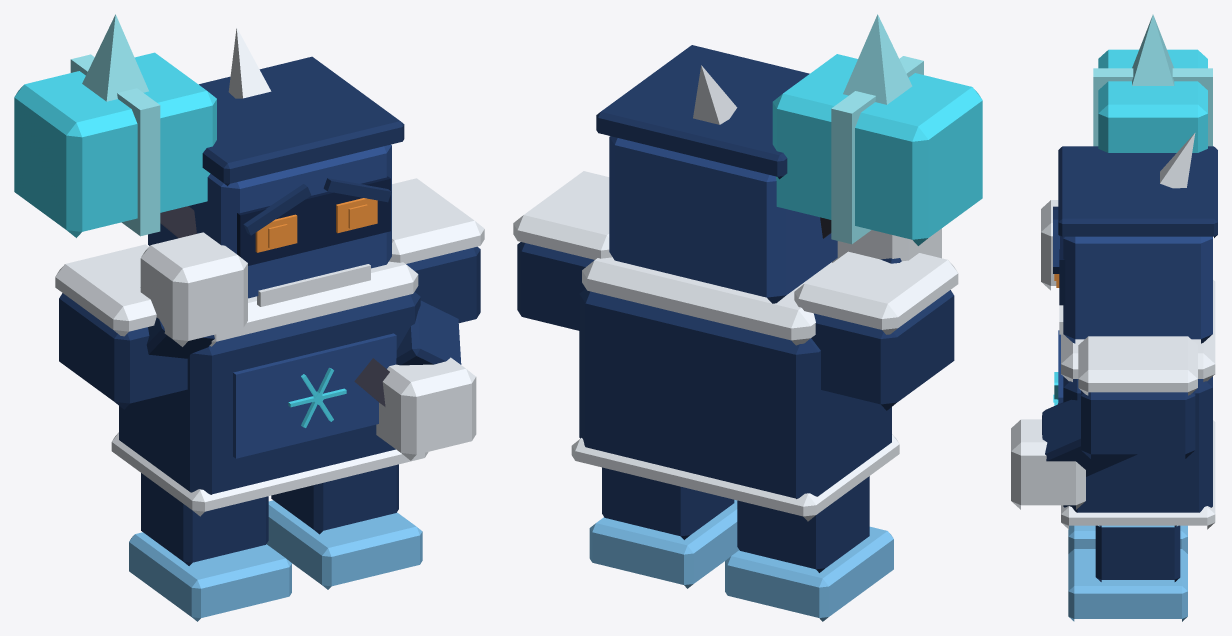
Rendered from r2_mini_icebreaker.glb.
3 views of the same model, side by side, from view 1: azimuth 30°, elevation 25°; view 2: azimuth 150°, elevation 25°; view 3: azimuth 270°, elevation 25° (orthographic). The views are drawn at different scales.
Parts seen in each view (by area): view 1: r2_mini_icebreaker_mesh; view 2: r2_mini_icebreaker_mesh; view 3: r2_mini_icebreaker_mesh.
Boxes of the visible parts, x1=… form: r2_mini_icebreaker_mesh: x1=14, y1=14, x2=484, y2=621; r2_mini_icebreaker_mesh: x1=513, y1=14, x2=982, y2=621; r2_mini_icebreaker_mesh: x1=1011, y1=14, x2=1217, y2=621.
Size of the model in its own units: 3.28 by 4.5 by 1.68.
1 material, 1 textured.
